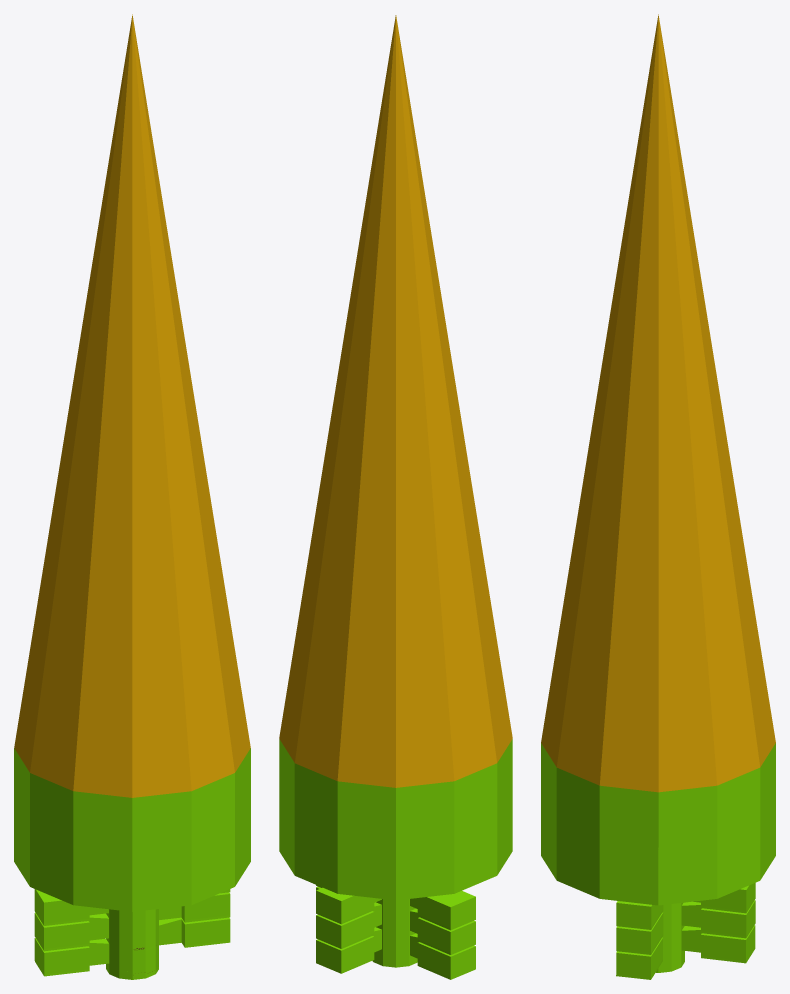
Rendered from wizTower 1.fbx.
The picture shows the model from 3 angles, left to right: view 1: azimuth 30°, elevation 25°; view 2: azimuth 150°, elevation 25°; view 3: azimuth 270°, elevation 25°; orthographic projection.
Visible parts, largest first — view 1: Cylinder.001; view 2: Cylinder.001; view 3: Cylinder.001.
Boxes of the visible parts, x1,y1,x2,y2 form: Cylinder.001: [14, 14, 250, 979]; Cylinder.001: [279, 15, 512, 979]; Cylinder.001: [541, 14, 775, 979].
Size of the model in its own units: 3010 by 13401 by 3010.
